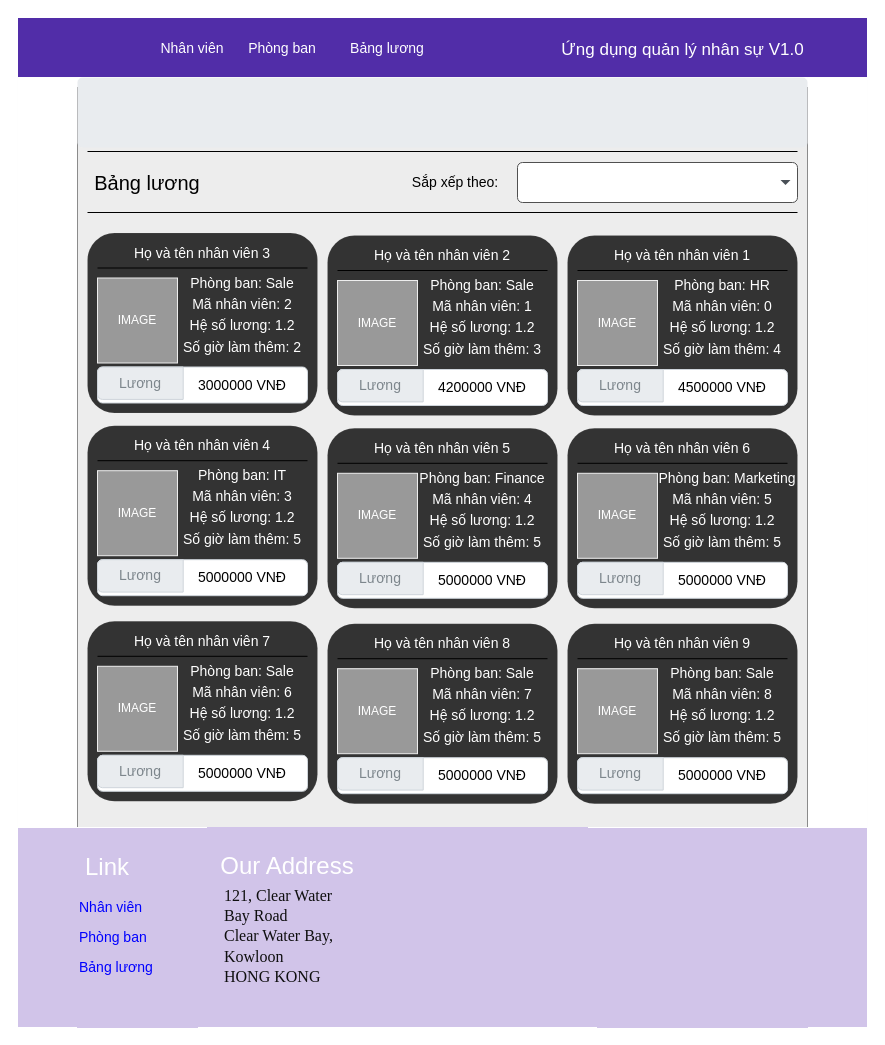
Some shapes in this 885 by 1045 pixel diagram are drawn without their labels. Here are the shapes that lost their labels. From the top down, the box of each, then its label:
(16, 16, 868, 78): LOGO
(77, 77, 807, 147): Nhân viên / Bảng lương
(516, 162, 798, 202): Mức lương tăng dần
(596, 828, 808, 1028): Social - Icon
